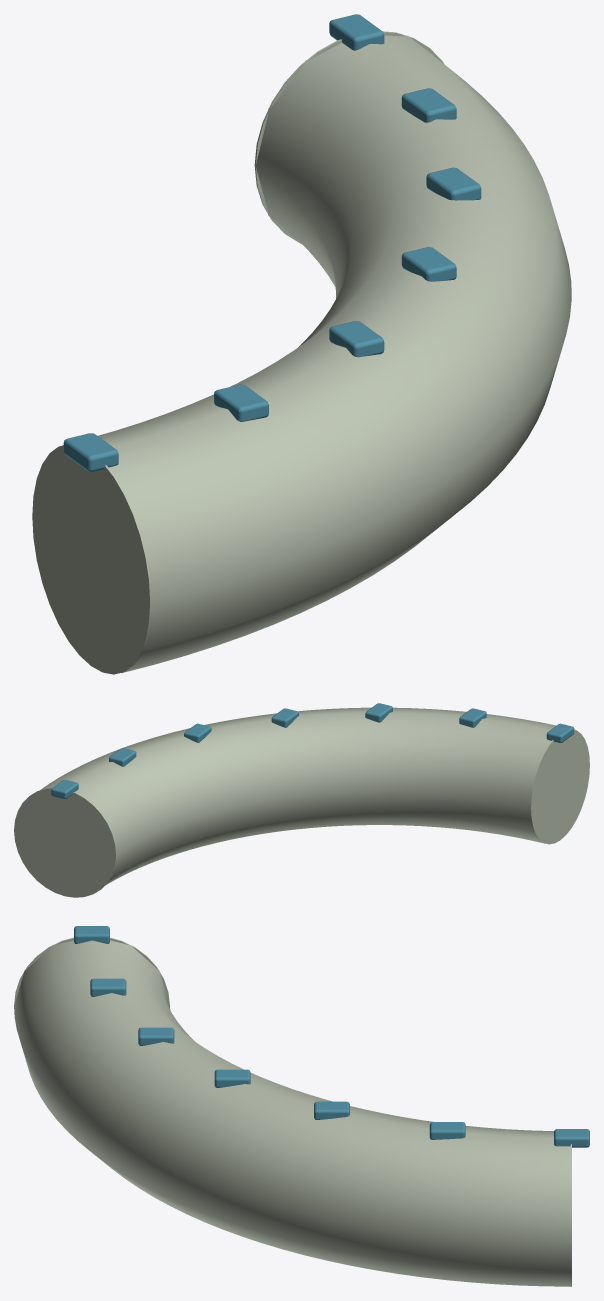
The picture shows the model from 3 angles, top to bottom: view 1: azimuth 30°, elevation 25°; view 2: azimuth 150°, elevation 25°; view 3: azimuth 270°, elevation 25°; orthographic projection. The views are drawn at different scales.
Visible parts, largest first — view 1: ring-section; view 2: ring-section; view 3: ring-section.
Part boxes in pixels (<box>): ring-section: <box>32,14,571,674</box>; ring-section: <box>14,703,589,897</box>; ring-section: <box>14,926,589,1286</box>.
Bounding box in the file's own units: 4.75 × 1.35 × 4.8.
